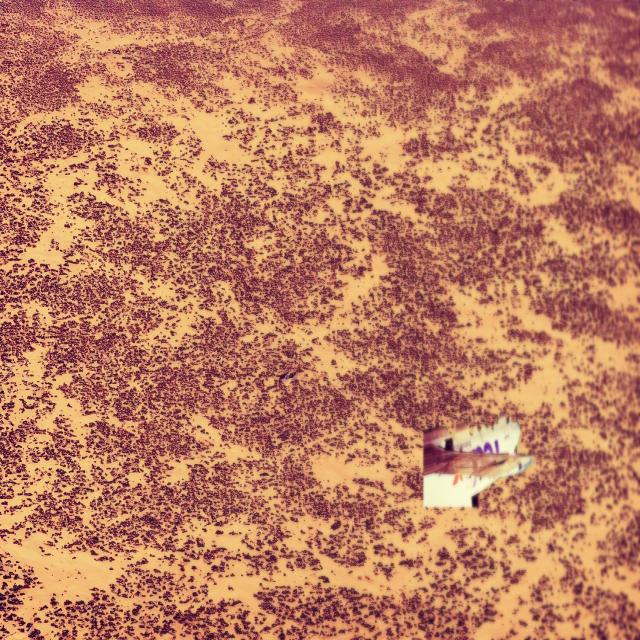airplane: (422, 414, 534, 510)
